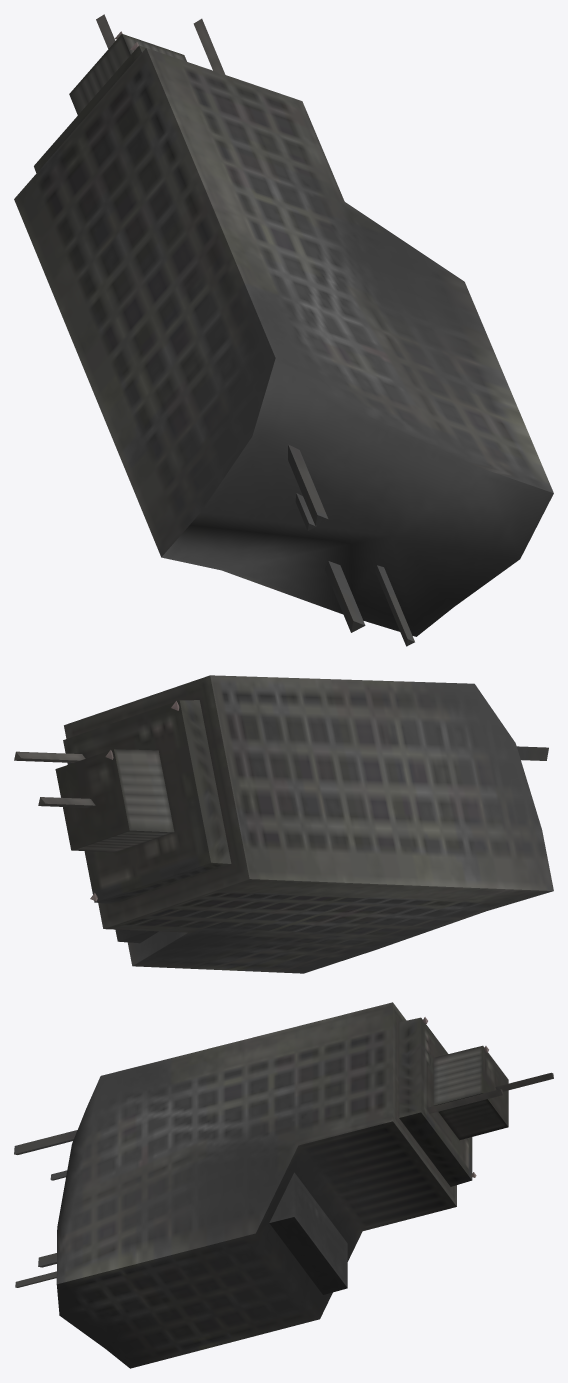
File: skyBuildingAAB_pos_grp (27).fbx
The picture shows the model from 3 angles, top to bottom: view 1: azimuth 30°, elevation 25°; view 2: azimuth 150°, elevation 25°; view 3: azimuth 270°, elevation 25°; orthographic projection. The views are drawn at different scales.
Visible parts, largest first — view 1: skyBuildingAAB_geo; view 2: skyBuildingAAB_geo; view 3: skyBuildingAAB_geo.
Boxes of the visible parts, left/top/right/bottom form: skyBuildingAAB_geo: left=14, top=14, right=553, bottom=646; skyBuildingAAB_geo: left=14, top=675, right=553, bottom=973; skyBuildingAAB_geo: left=14, top=1002, right=553, bottom=1368.
Bounding box in the file's own units: 5.95 × 6.79 × 9.86.
Materials: 1 (1 with a texture image).
